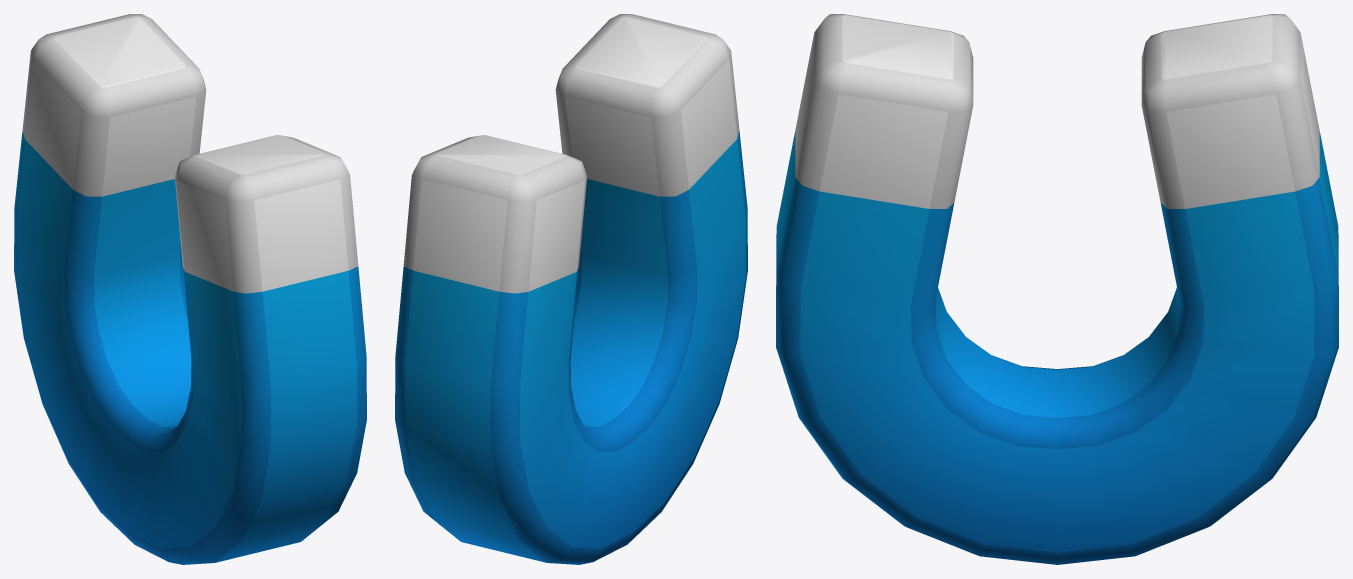
The model's file is Magnet_V3_00.fbx.
3 views of the same model, side by side, from view 1: azimuth 30°, elevation 25°; view 2: azimuth 150°, elevation 25°; view 3: azimuth 270°, elevation 25° (orthographic). The views are drawn at different scales.
Parts seen in each view (by area): view 1: Magnet_V3_00; view 2: Magnet_V3_00; view 3: Magnet_V3_00.
Boxes of the visible parts, left/top/right/bottom form: Magnet_V3_00: left=14, top=14, right=366, bottom=564; Magnet_V3_00: left=395, top=14, right=747, bottom=564; Magnet_V3_00: left=776, top=14, right=1338, bottom=564.
Size of the model in its own units: 0.1158 by 0.3972 by 0.4038.
1 material, 1 textured.
